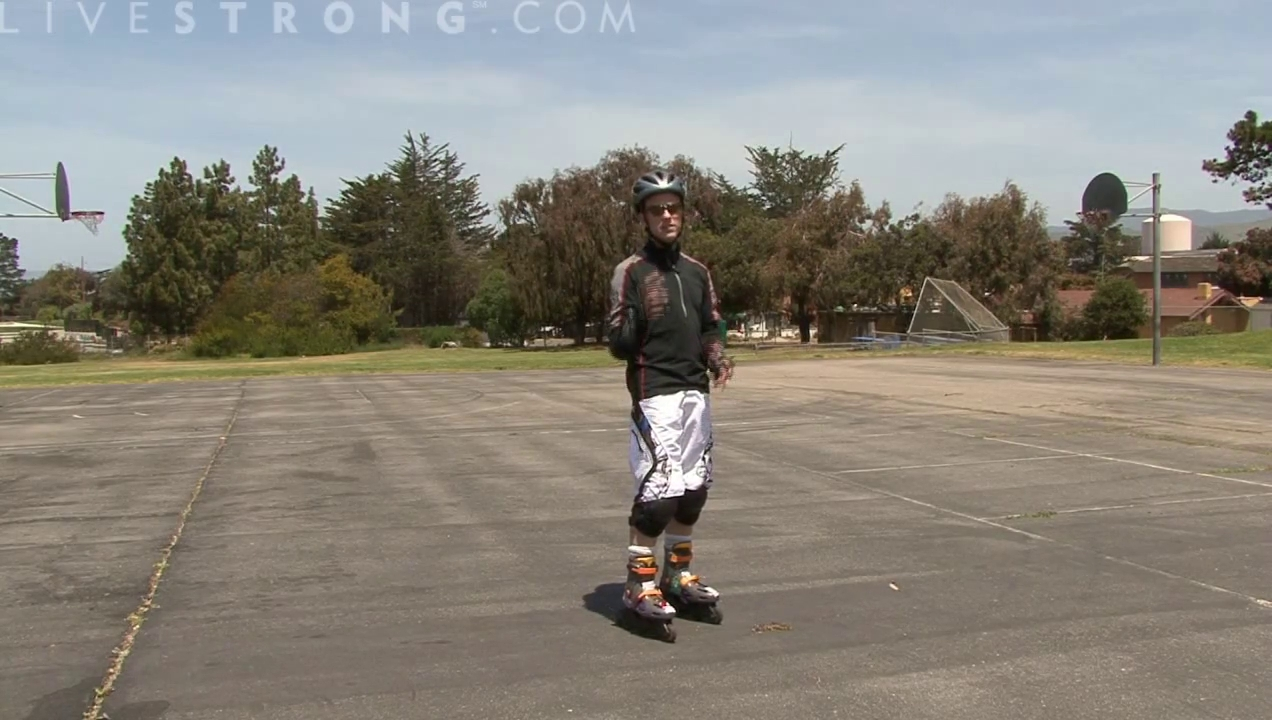person: (607, 170, 734, 643)
